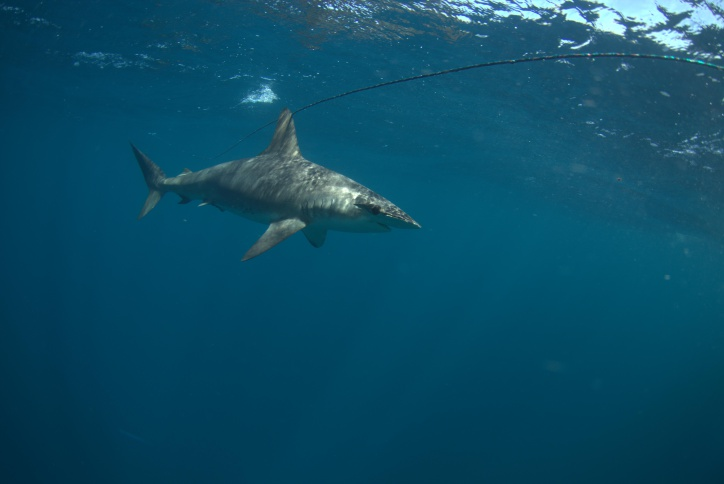Hammer: (72, 81, 454, 268), (242, 186, 446, 300)
